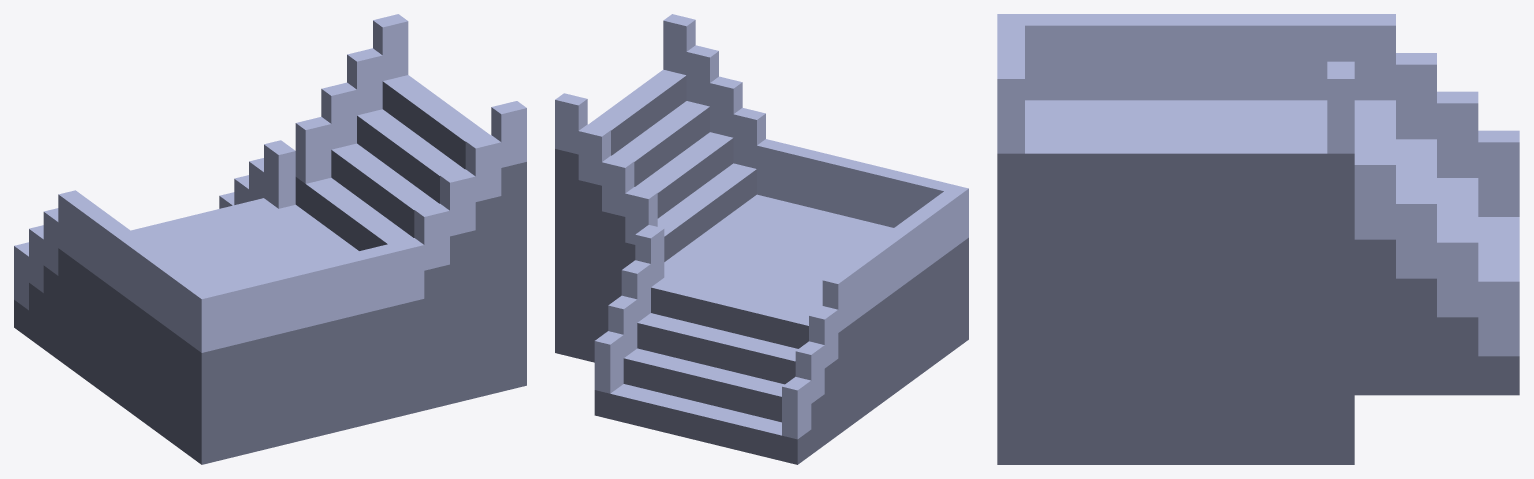
File: footbridge-stair-left.glb
3 renders of one model, left to right at view 1: azimuth 30°, elevation 25°; view 2: azimuth 150°, elevation 25°; view 3: azimuth 270°, elevation 25°, orthographic. The views are drawn at different scales.
Parts seen in each view (by area): view 1: footbridge-stair-left; view 2: footbridge-stair-left; view 3: footbridge-stair-left.
Part boxes in pixels (left/top/right/bottom): footbridge-stair-left: left=14, top=14, right=526, bottom=464; footbridge-stair-left: left=555, top=14, right=968, bottom=464; footbridge-stair-left: left=997, top=14, right=1519, bottom=464.
Size of the model in its own units: 0.76 by 0.62 by 0.76.
Materials: 1 (1 with a texture image).
